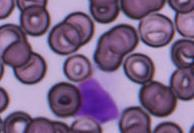L: (72, 75, 122, 126)
